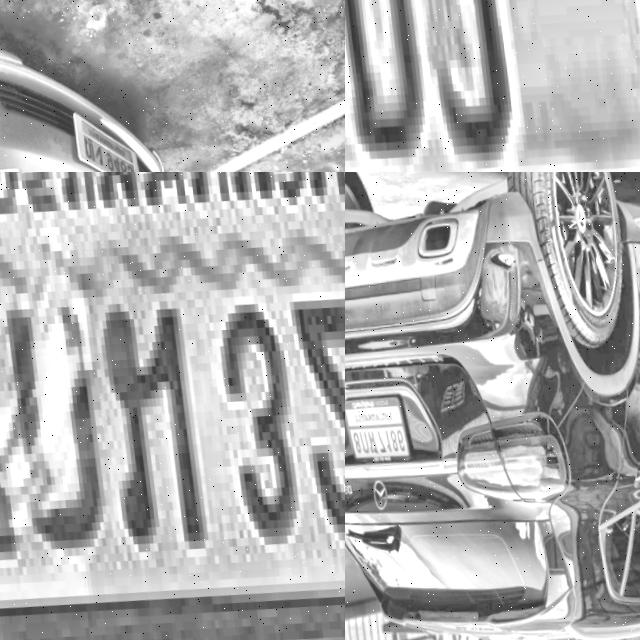license-plate: (0, 172, 345, 640), (345, 0, 640, 172), (67, 100, 144, 172), (345, 398, 407, 463)
